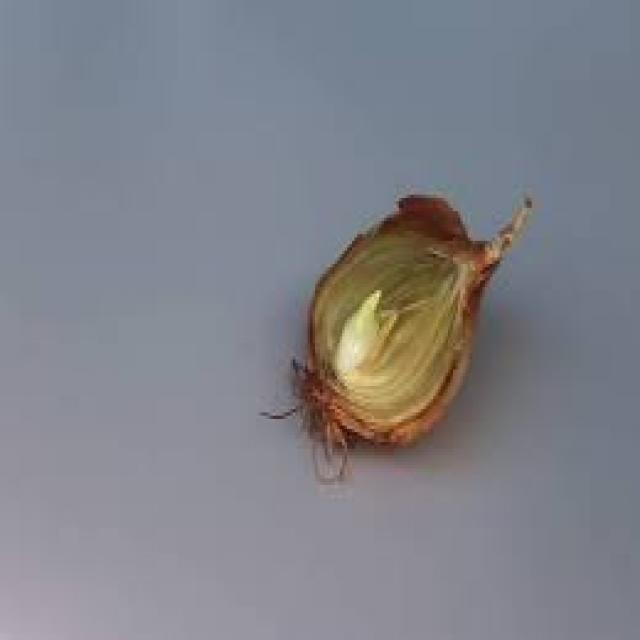Onion: (261, 188, 534, 487)
